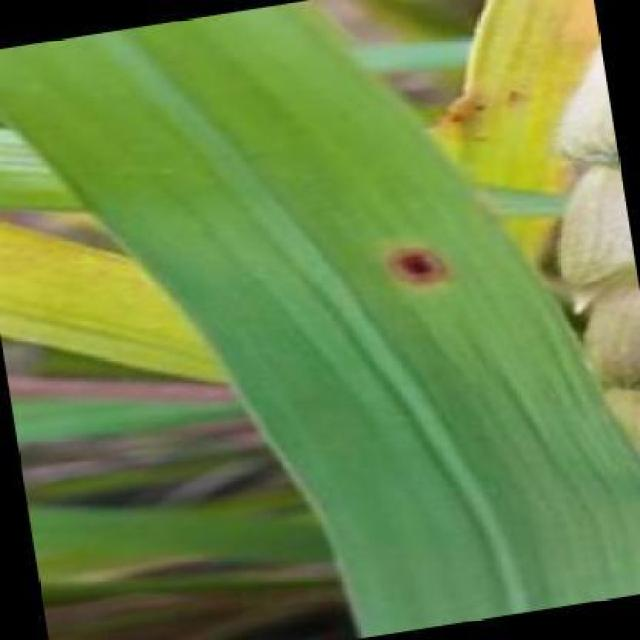Leaf_Blast: (371, 226, 467, 309), (496, 74, 541, 120)
